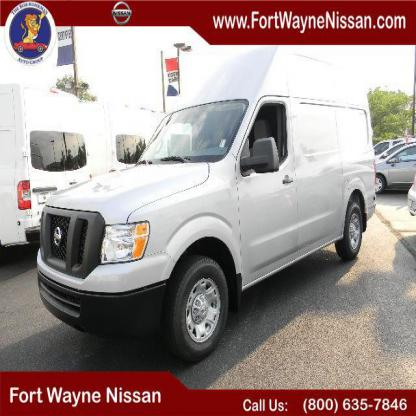Vehicle: (34, 44, 380, 366)
